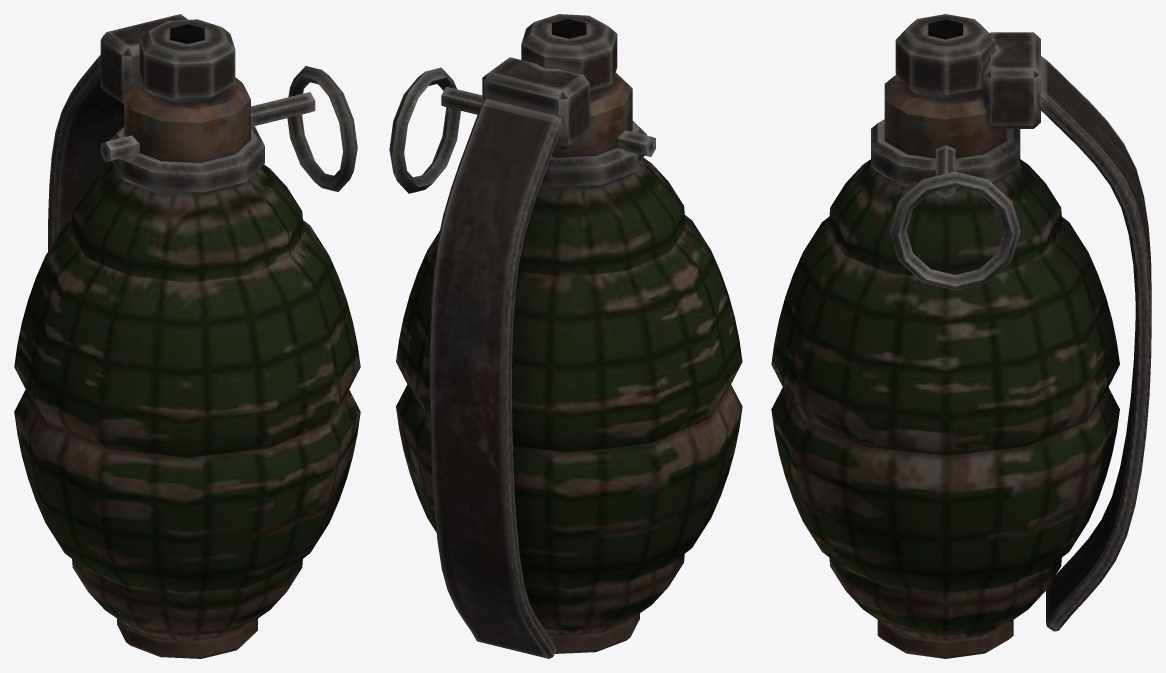
The model's file is limonka.glb.
The picture shows the model from 3 angles, left to right: view 1: azimuth 30°, elevation 25°; view 2: azimuth 150°, elevation 25°; view 3: azimuth 270°, elevation 25°; orthographic projection.
Parts seen in each view (by area): view 1: limonka; view 2: limonka; view 3: limonka.
Boxes of the visible parts, x1,y1,x2,y2 form: limonka: (14,14,360,658); limonka: (389,14,742,658); limonka: (771,14,1151,658).
Size of the model in its own units: 0.0733 by 0.1398 by 0.0799.
1 material, 1 textured.
